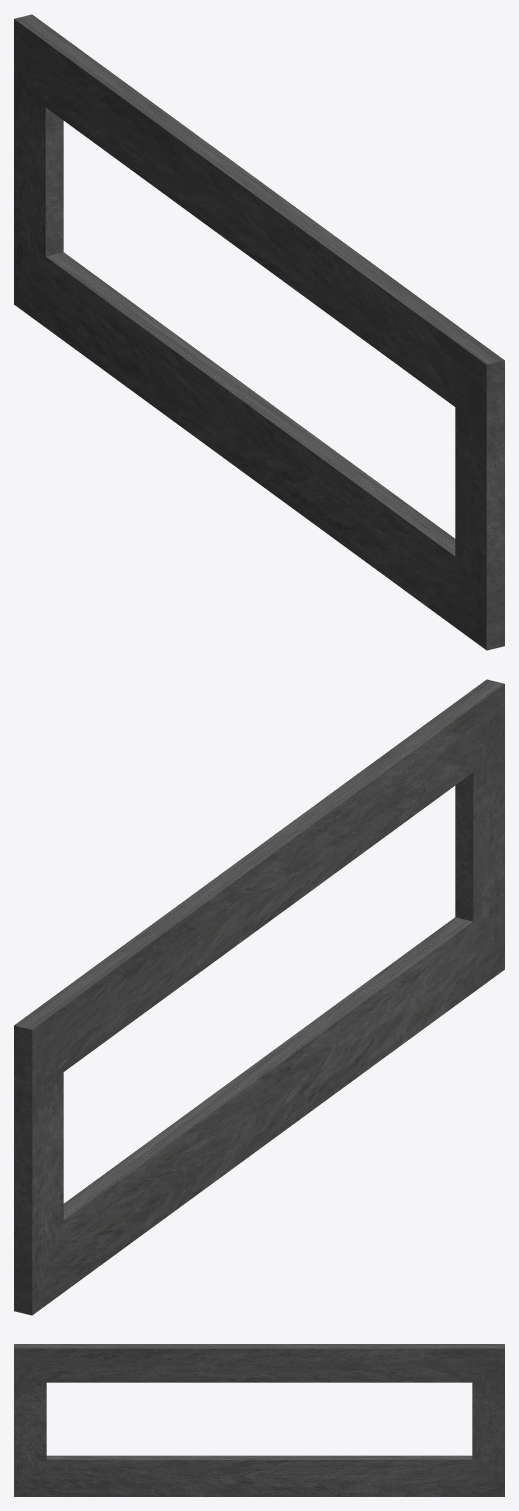
File: BigWindow.fbx
3 views of the same model, one above another, from view 1: azimuth 30°, elevation 25°; view 2: azimuth 150°, elevation 25°; view 3: azimuth 270°, elevation 25° (orthographic). The views are drawn at different scales.
Parts seen in each view (by area): view 1: Window_Wall; view 2: Window_Wall; view 3: Window_Wall.
Boxes of the visible parts, x1,y1,x2,y2 form: Window_Wall: (14, 14, 504, 650); Window_Wall: (14, 679, 504, 1315); Window_Wall: (14, 1344, 504, 1496).
Bounding box in the file's own units: 20 × 300 × 900.
